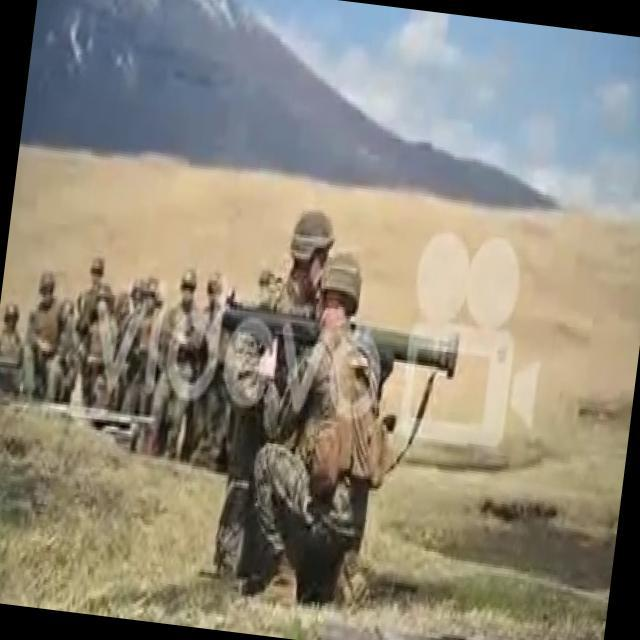rocket: (218, 294, 462, 376)
